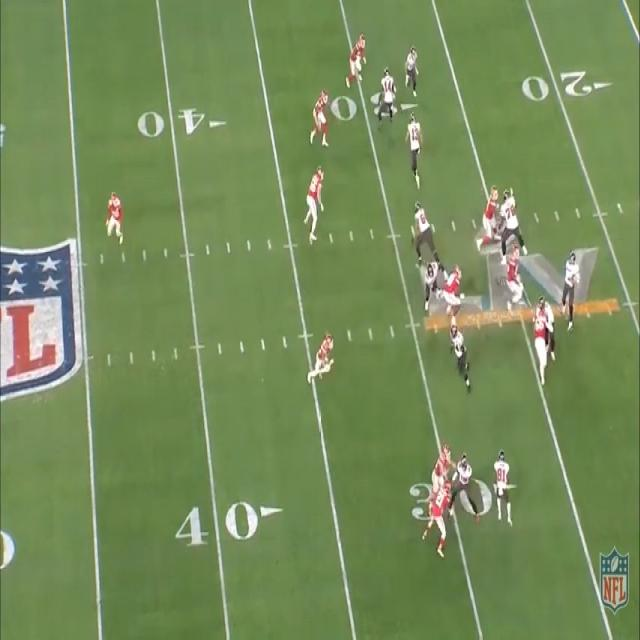players: (446, 326, 479, 405), (421, 482, 454, 559), (502, 193, 533, 266), (299, 166, 327, 246), (410, 201, 442, 270), (305, 328, 338, 392), (307, 84, 335, 157), (452, 452, 478, 522), (557, 254, 580, 332), (529, 308, 551, 388), (404, 112, 426, 192), (495, 444, 515, 529), (504, 245, 526, 319), (344, 31, 370, 93), (479, 186, 503, 252), (106, 183, 128, 250), (379, 61, 399, 131), (536, 288, 556, 358), (447, 264, 469, 327), (430, 442, 450, 504), (404, 42, 424, 96), (424, 261, 440, 319)
